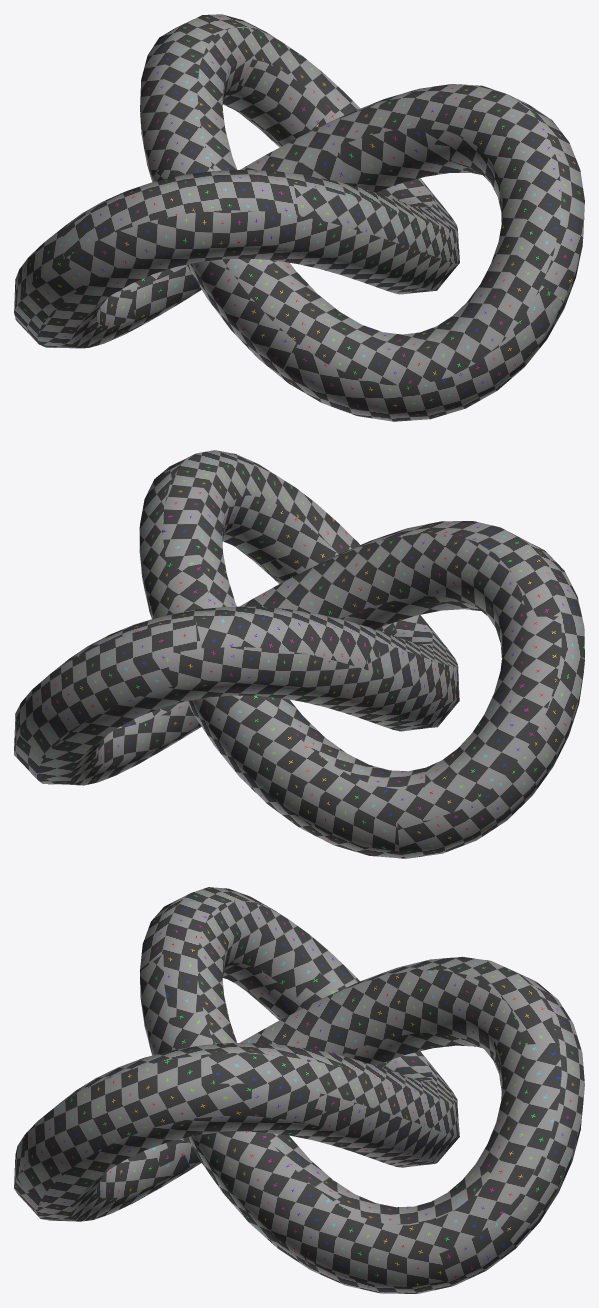
Rendered from torusknot_uv.gltf.
3 renders of one model, top to bottom at view 1: azimuth 30°, elevation 25°; view 2: azimuth 150°, elevation 25°; view 3: azimuth 270°, elevation 25°, orthographic.
Parts seen in each view (by area): view 1: TorusKnot; view 2: TorusKnot; view 3: TorusKnot.
Part boxes in pixels (box(x1,y1,x2,y2)): TorusKnot: box(14, 14, 584, 421); TorusKnot: box(14, 450, 584, 858); TorusKnot: box(14, 887, 584, 1293).
Bounding box in the file's own units: 6.04 × 2.96 × 6.41.
1 material, 1 textured.
